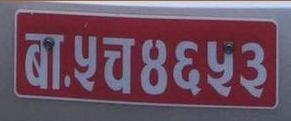3: (237, 41, 270, 103)
4: (137, 38, 172, 98)
5: (204, 40, 235, 102), (69, 33, 101, 92)
6: (172, 39, 207, 99)
ba: (19, 29, 66, 90)
cha: (101, 33, 135, 96)
